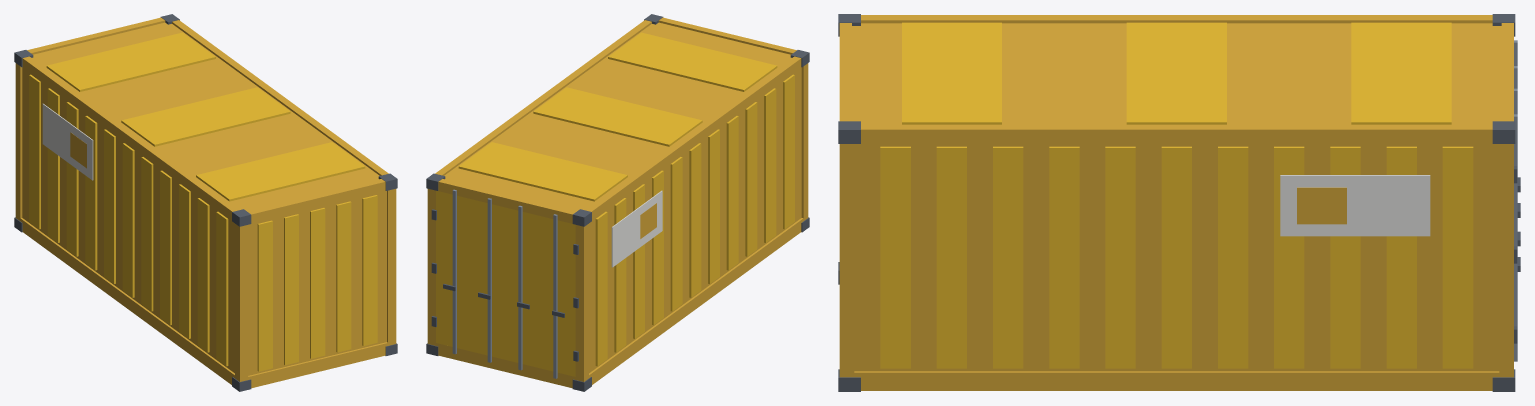
Rendered from container_c.glb.
The picture shows the model from 3 angles, left to right: view 1: azimuth 30°, elevation 25°; view 2: azimuth 150°, elevation 25°; view 3: azimuth 270°, elevation 25°; orthographic projection. The views are drawn at different scales.
Visible parts, largest first — view 1: Container; view 2: Container; view 3: Container.
Boxes of the visible parts, left/top/right/bottom form: Container: left=14, top=14, right=397, bottom=391; Container: left=426, top=14, right=809, bottom=391; Container: left=838, top=14, right=1520, bottom=391.
Size of the model in its own units: 2.47 by 2.6 by 6.13.
